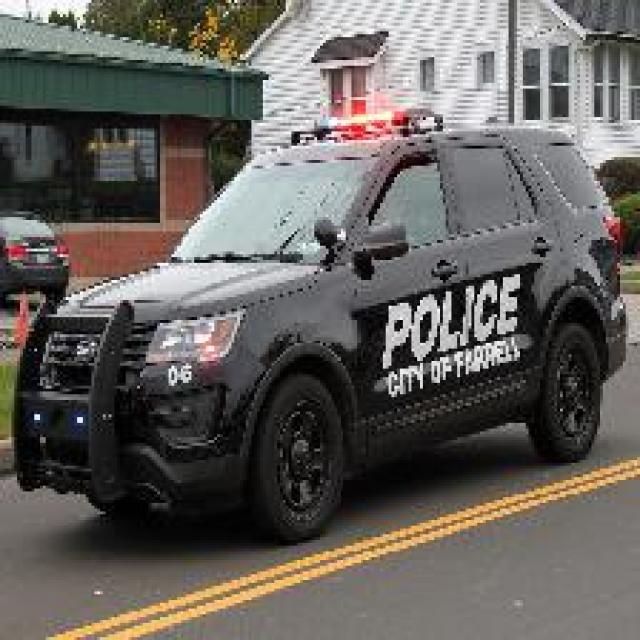Car: (0, 208, 69, 306)
Police-car: (9, 103, 628, 543)
